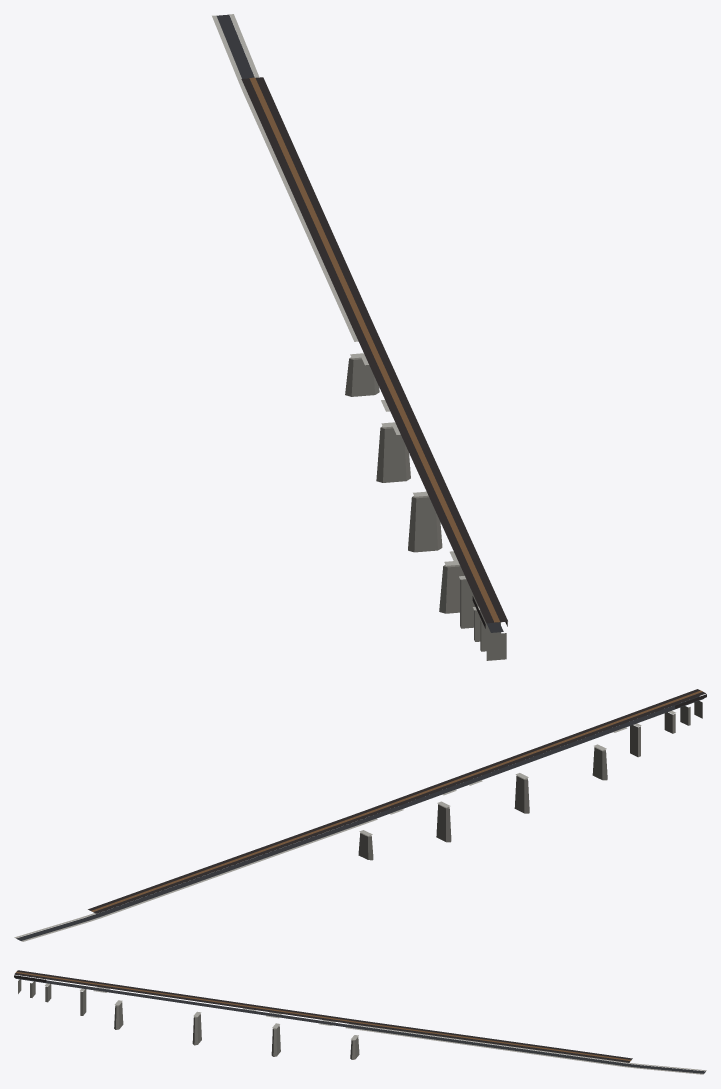
File: br_r10_high_level_1_lod3.gltf
3 views of the same model, one above another, from view 1: azimuth 30°, elevation 25°; view 2: azimuth 150°, elevation 25°; view 3: azimuth 270°, elevation 25° (orthographic). The views are drawn at different scales.
Parts seen in each view (by area): view 1: br_r10_high_level_1_lod3; view 2: br_r10_high_level_1_lod3; view 3: br_r10_high_level_1_lod3.
Part boxes in pixels (box(x1,y1,x2,y2)): br_r10_high_level_1_lod3: box(212, 14, 507, 660); br_r10_high_level_1_lod3: box(14, 689, 706, 941); br_r10_high_level_1_lod3: box(14, 970, 706, 1074).
Size of the model in its own units: 267 by 53.01 by 738.
